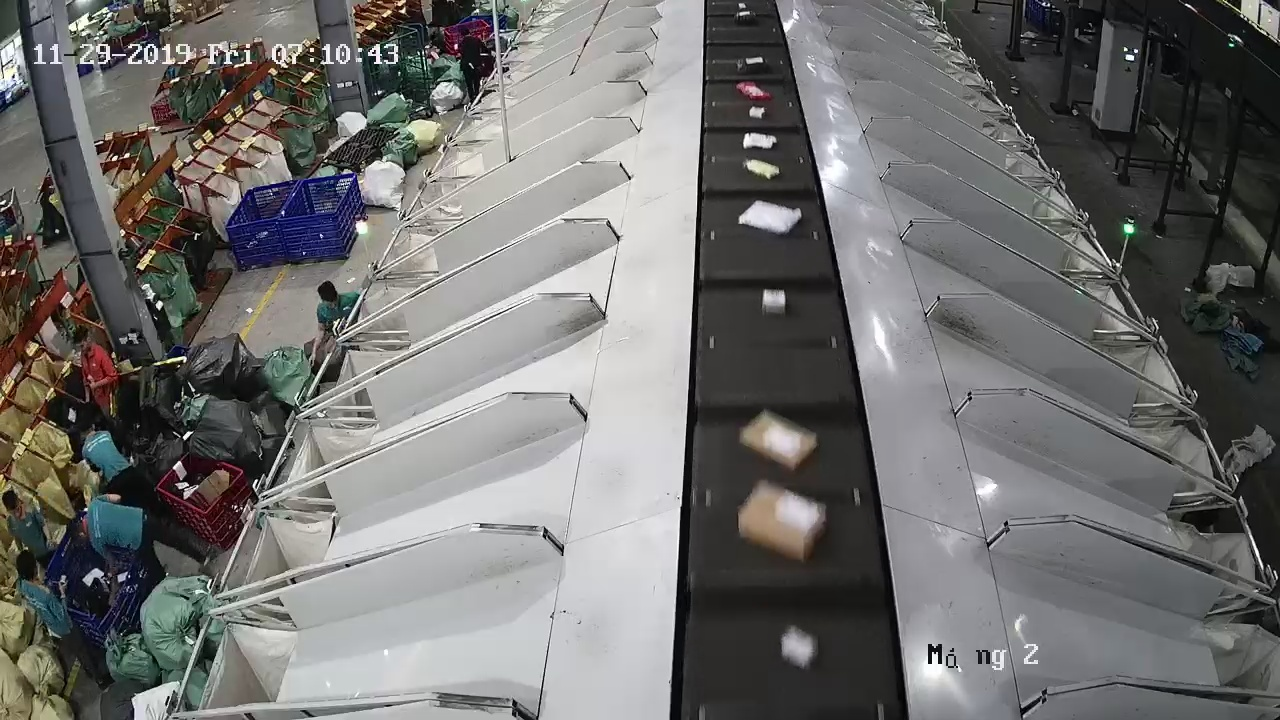parcel: (738, 482, 827, 563), (739, 411, 818, 472), (738, 199, 802, 235), (781, 628, 816, 669), (763, 288, 787, 315)
